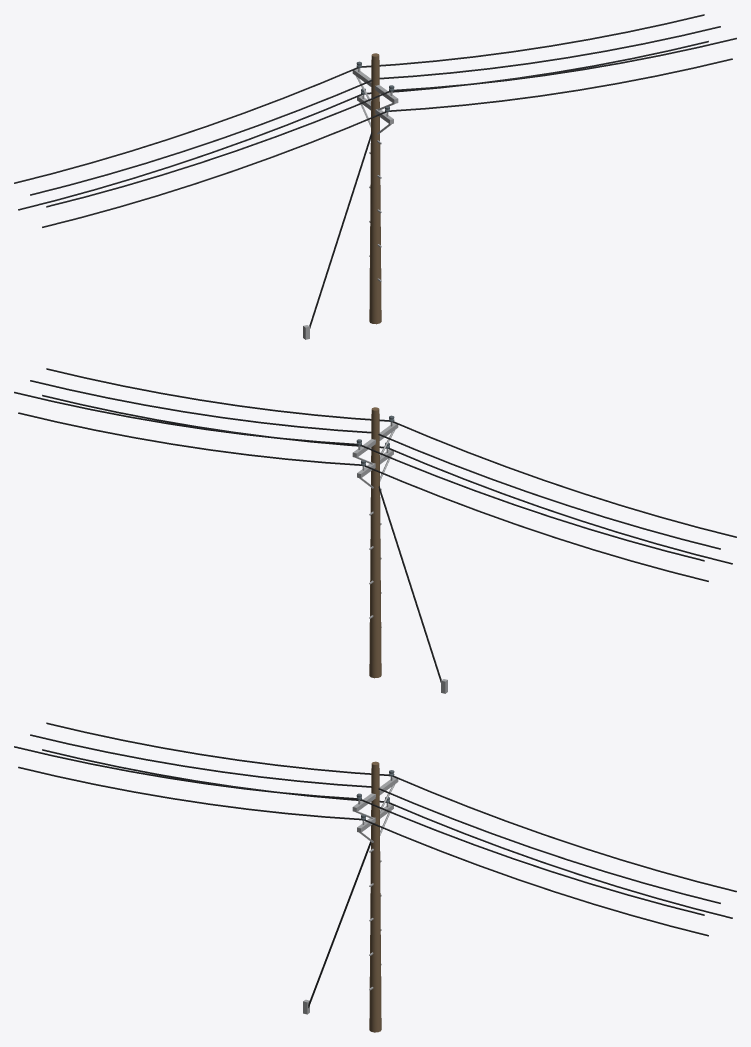
File: city_pole.fbx
3 renders of one model, top to bottom at view 1: azimuth 30°, elevation 25°; view 2: azimuth 150°, elevation 25°; view 3: azimuth 330°, elevation 25°, orthographic.
Visible parts, largest first — view 1: rubber_1, timber_1, galv_1; view 2: rubber_1, timber_1, galv_1; view 3: rubber_1, timber_1, galv_1.
Boxes of the visible parts, x1,y1,x2,y2 form: rubber_1: [14, 14, 736, 328]; timber_1: [369, 53, 381, 324]; galv_1: [303, 68, 398, 339]; rubber_1: [14, 368, 736, 682]; timber_1: [369, 407, 381, 678]; galv_1: [352, 422, 447, 693]; rubber_1: [14, 722, 736, 1007]; timber_1: [369, 761, 381, 1032]; galv_1: [303, 776, 398, 1014].
Size of the model in its own units: 2.6 by 0.96 by 0.27.
